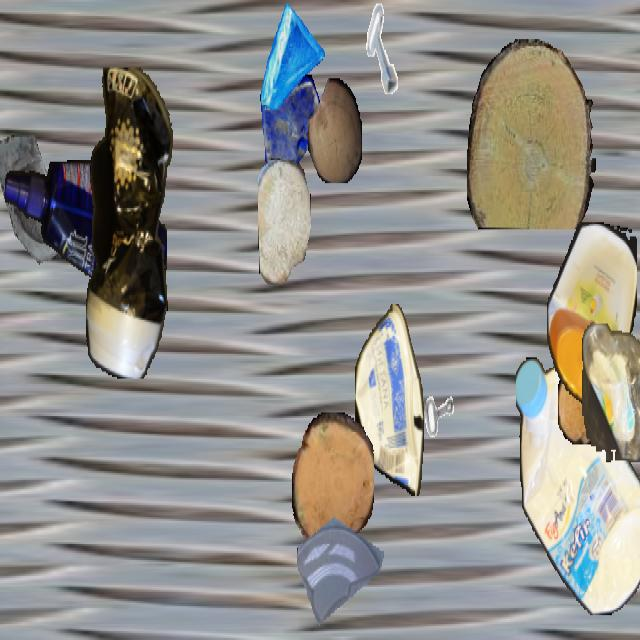glass: (297, 486, 383, 638), (0, 135, 83, 288), (258, 75, 324, 192), (259, 2, 325, 119)
metal: (405, 343, 463, 446), (358, 2, 410, 94)
plastic: (516, 356, 640, 615), (86, 67, 174, 377), (5, 160, 167, 306), (547, 222, 637, 404), (355, 304, 423, 496), (582, 324, 640, 462)
wood: (467, 39, 595, 228), (292, 413, 374, 551), (258, 158, 310, 283), (308, 78, 362, 182), (558, 362, 602, 444)
